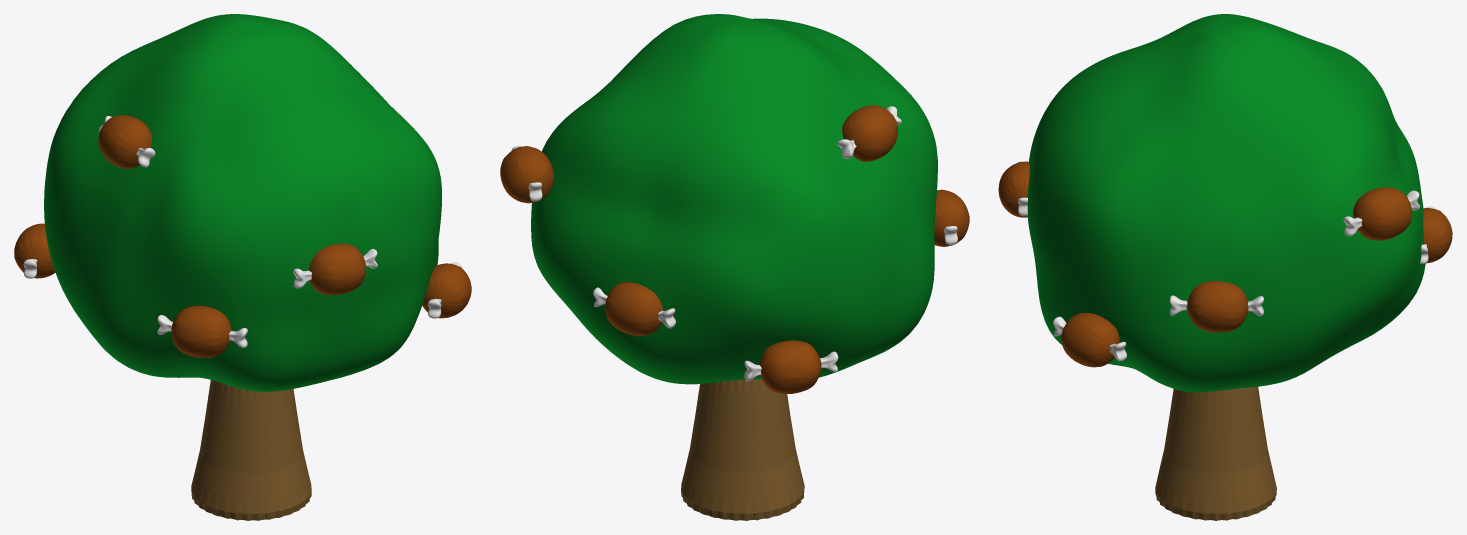
The model's file is meet_tree.fbx.
The picture shows the model from 3 angles, left to right: view 1: azimuth 30°, elevation 25°; view 2: azimuth 150°, elevation 25°; view 3: azimuth 270°, elevation 25°; orthographic projection. The views are drawn at different scales.
Parts seen in each view (by area): view 1: meettree; view 2: meettree; view 3: meettree.
Boxes of the visible parts, x1,y1,x2,y2 form: meettree: [14, 14, 471, 520]; meettree: [500, 14, 969, 520]; meettree: [998, 14, 1452, 520].
Bounding box in the file's own units: 897 × 1161 × 1004.
